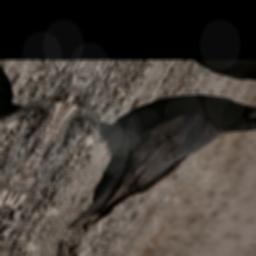Crow: (9, 69, 256, 255)
